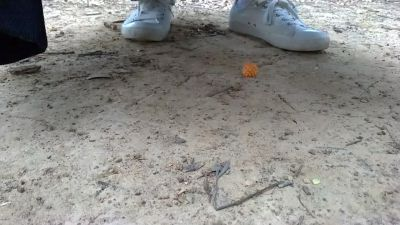eggs: (240, 60, 262, 80)
